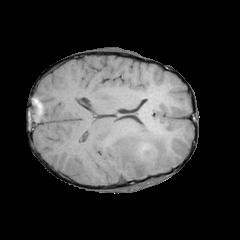glioma: (111, 124, 169, 178)
